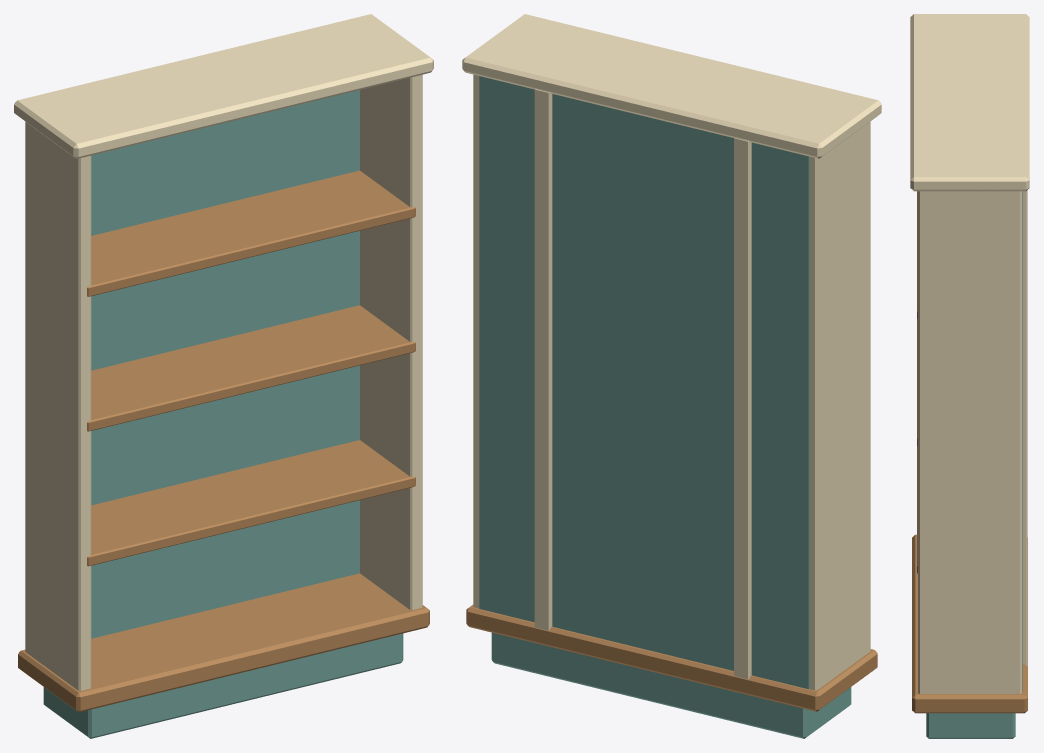
The picture shows the model from 3 angles, left to right: view 1: azimuth 30°, elevation 25°; view 2: azimuth 150°, elevation 25°; view 3: azimuth 270°, elevation 25°; orthographic projection. The views are drawn at different scales.
Visible parts, largest first — view 1: Inset_backboard, Side_wall_L, Crown_cap, Side_wall_R, Lower_book_deck, Fixed_book_shelf_03, Fixed_book_shelf_02, Fixed_book_shelf_01, Floor_plinth; view 2: Inset_backboard, Side_wall_L, Crown_cap, Floor_plinth, Rear_batten_R, Rear_batten_L, Lower_book_deck, Side_wall_R; view 3: Side_wall_R, Crown_cap, Lower_book_deck, Rear_batten_R, Floor_plinth, Inset_backboard.
Boxes of the visible parts, left/top/right/bottom form: Inset_backboard: left=91, top=90, right=359, bottom=638; Side_wall_L: left=25, top=121, right=91, bottom=690; Crown_cap: left=14, top=14, right=433, bottom=158; Side_wall_R: left=360, top=74, right=422, bottom=609; Lower_book_deck: left=18, top=573, right=429, bottom=712; Fixed_book_shelf_03: left=87, top=170, right=415, bottom=296; Fixed_book_shelf_02: left=87, top=305, right=415, bottom=431; Fixed_book_shelf_01: left=87, top=440, right=415, bottom=566; Floor_plinth: left=43, top=633, right=403, bottom=738; Inset_backboard: left=479, top=76, right=809, bottom=689; Side_wall_L: left=809, top=121, right=870, bottom=690; Crown_cap: left=462, top=14, right=881, bottom=158; Floor_plinth: left=491, top=632, right=851, bottom=738; Rear_batten_R: left=534, top=89, right=552, bottom=630; Rear_batten_L: left=734, top=138, right=751, bottom=679; Lower_book_deck: left=466, top=605, right=877, bottom=711; Side_wall_R: left=473, top=74, right=479, bottom=608; Side_wall_R: left=918, top=191, right=1021, bottom=693; Crown_cap: left=910, top=14, right=1029, bottom=191; Lower_book_deck: left=912, top=534, right=1027, bottom=713; Rear_batten_R: left=1022, top=190, right=1027, bottom=665; Floor_plinth: left=926, top=713, right=1015, bottom=738; Inset_backboard: left=1022, top=191, right=1022, bottom=690.
Bounding box in the file's own units: 1.12 × 1.8 × 0.34.
